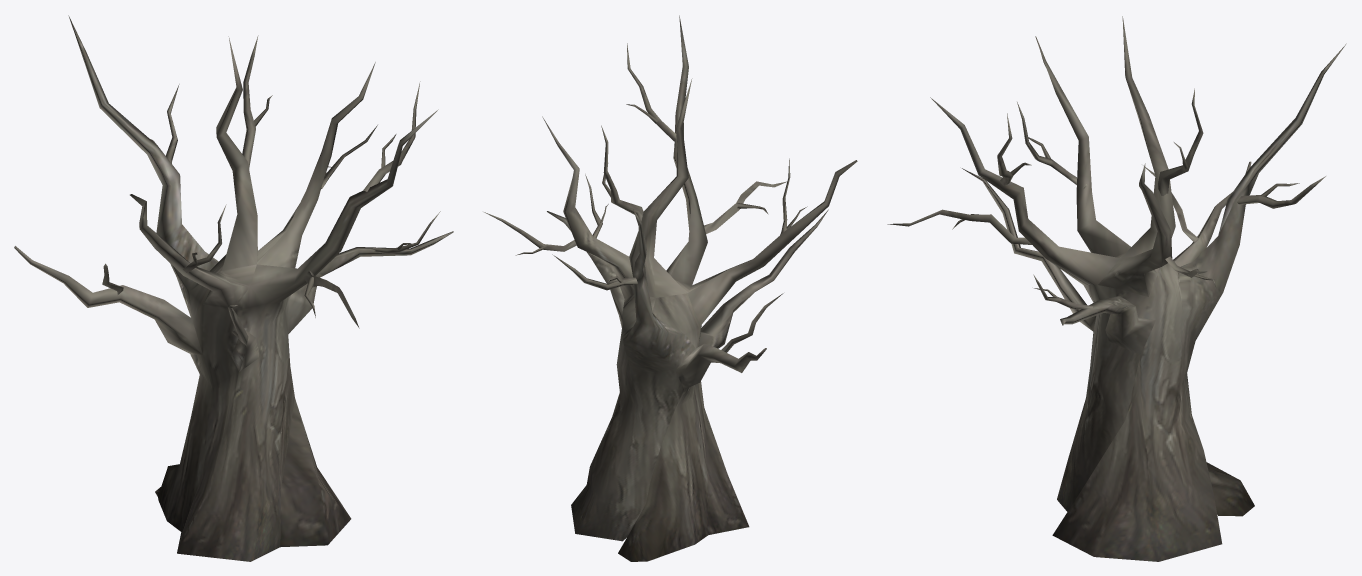
Rendered from DN_lv2_kushu05.FBX.
The picture shows the model from 3 angles, left to right: view 1: azimuth 30°, elevation 25°; view 2: azimuth 150°, elevation 25°; view 3: azimuth 270°, elevation 25°; orthographic projection. The views are drawn at different scales.
Parts seen in each view (by area): view 1: DN_lv2_kushu05; view 2: DN_lv2_kushu05; view 3: DN_lv2_kushu05.
Boxes of the visible parts, <box> form: DN_lv2_kushu05: <box>14,15,453,561</box>; DN_lv2_kushu05: <box>484,15,857,561</box>; DN_lv2_kushu05: <box>887,16,1346,561</box>.
Size of the model in its own units: 1024 by 1424 by 1210.
